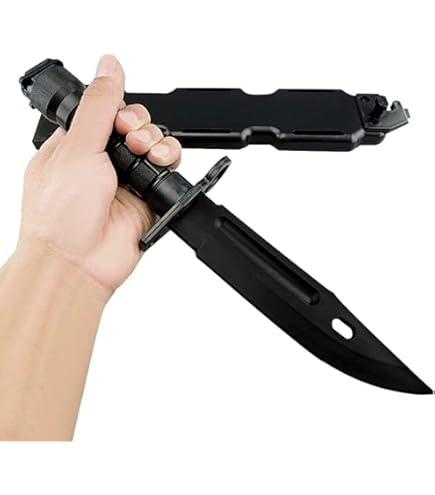Knife: (0, 57, 180, 440), (165, 175, 433, 394), (25, 56, 175, 279)
